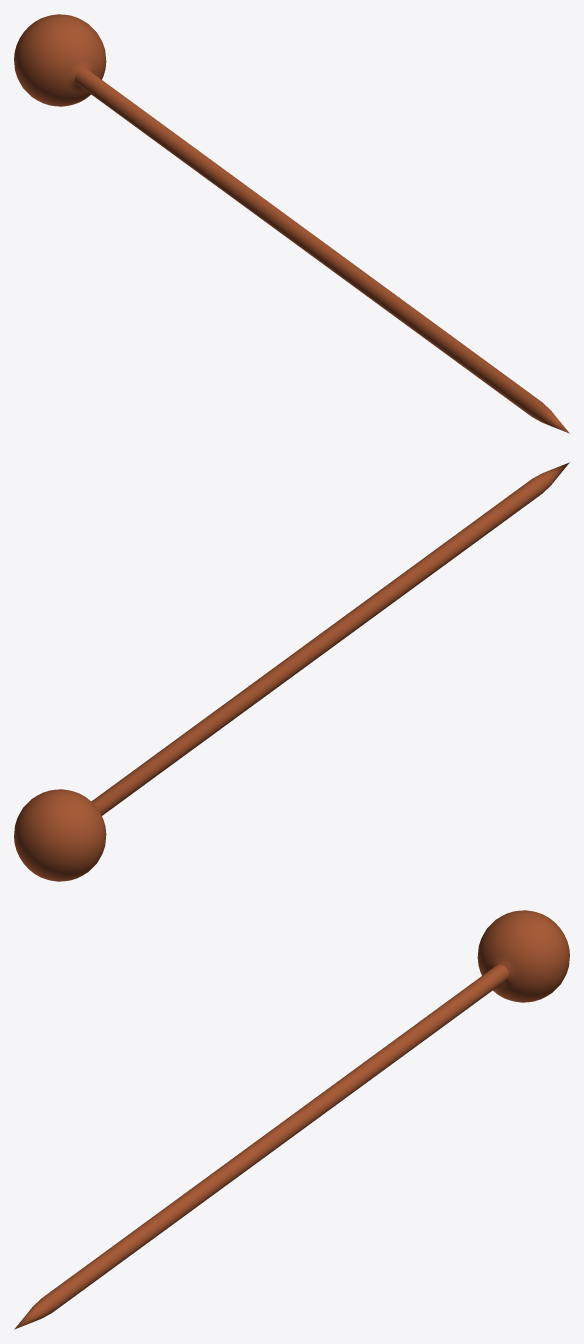
The model's file is SIENNA.glb.
3 renders of one model, top to bottom at view 1: azimuth 30°, elevation 25°; view 2: azimuth 150°, elevation 25°; view 3: azimuth 330°, elevation 25°, orthographic.
Parts seen in each view (by area): view 1: Sphere; view 2: Sphere; view 3: Sphere.
Boxes of the visible parts, x1,y1,x2,y2 form: Sphere: (14, 14, 569, 433); Sphere: (14, 462, 569, 881); Sphere: (14, 910, 569, 1329).
Bounding box in the file's own units: 0.02 × 0.02 × 0.2305.
